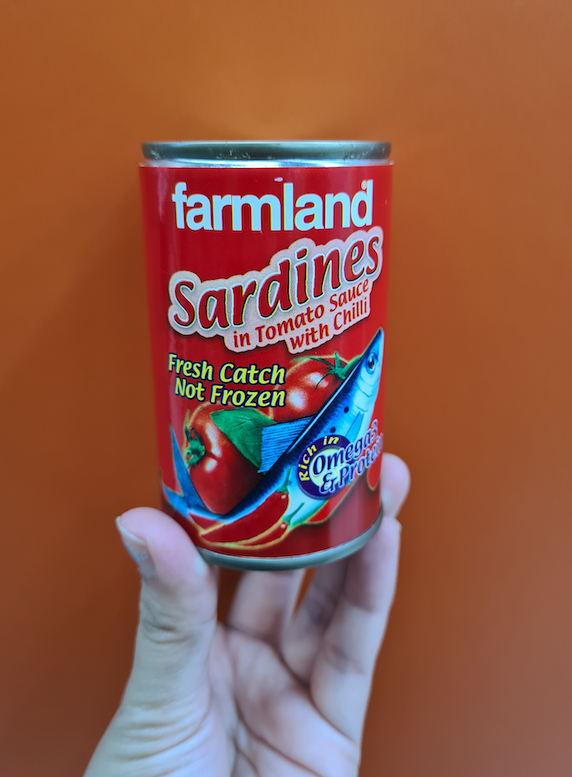Canned_Sardines_and_Mackerel: (150, 147, 386, 554)
